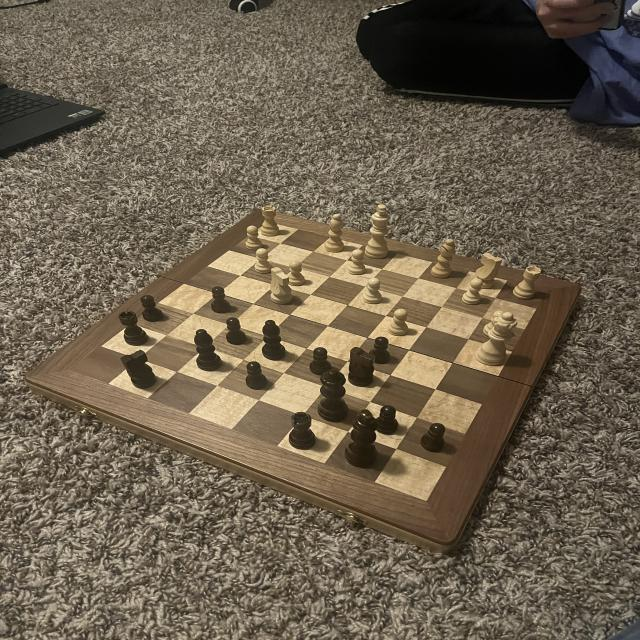bishop: (191, 327, 224, 372), (259, 317, 289, 364)
black-bishop: (343, 407, 385, 471)
black-king: (119, 347, 158, 390), (347, 346, 380, 388)
black-knight: (241, 360, 270, 393), (420, 422, 448, 456), (205, 284, 235, 315), (306, 345, 334, 378), (222, 316, 250, 348), (138, 294, 166, 323), (375, 404, 400, 436), (369, 333, 391, 368)
black-pawn: (318, 364, 353, 427)
black-queen: (117, 308, 150, 349), (288, 409, 318, 454)
black-rook: (429, 236, 458, 281), (322, 211, 348, 255)
white-bishop: (362, 202, 392, 260)
white-king: (470, 252, 504, 290), (264, 265, 295, 306)
white-knight: (343, 246, 372, 278), (459, 279, 488, 307), (387, 306, 412, 338), (481, 307, 508, 336), (360, 277, 386, 306), (286, 258, 308, 288), (244, 224, 266, 253), (254, 247, 274, 277)
white-pawn: (472, 308, 522, 370)
white-queen: (510, 263, 546, 300), (257, 203, 284, 240)
